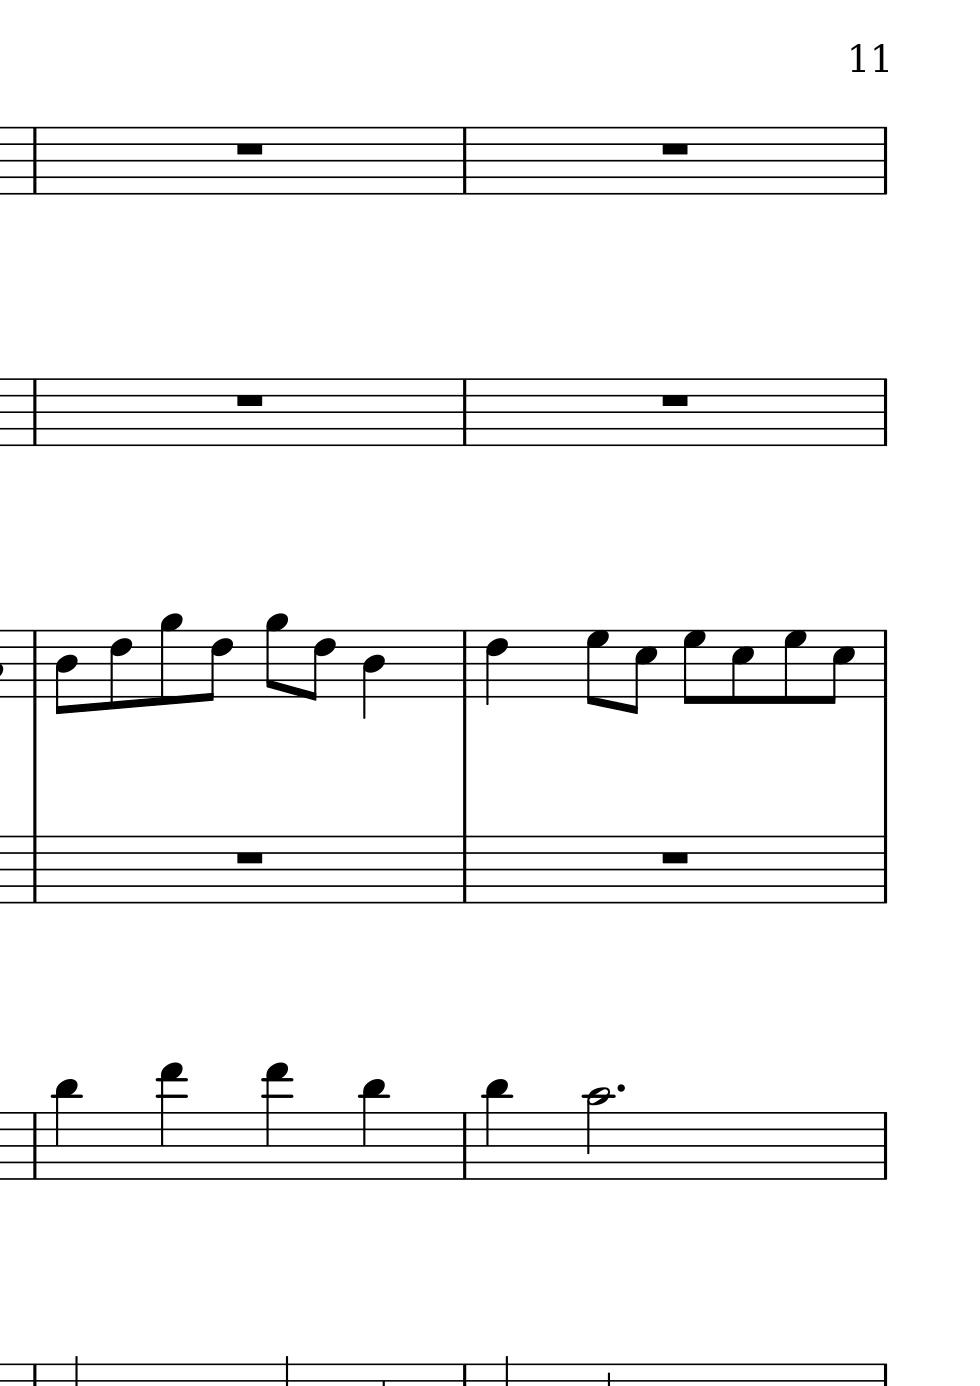1: (847, 41, 868, 76), (871, 41, 890, 76)
2_10: (582, 1086, 613, 1181)
4_11: (358, 1076, 388, 1182), (482, 1076, 511, 1181), (52, 1076, 78, 1182)
4_13: (263, 1062, 291, 1185), (158, 1062, 185, 1183)
4_4: (360, 627, 386, 721)
4_6: (482, 627, 510, 706)
8_4: (53, 627, 78, 716)
8_5: (626, 628, 658, 717), (823, 627, 856, 706), (729, 628, 755, 707)
8_6: (200, 627, 233, 703), (305, 627, 336, 702), (107, 627, 133, 710)
8_7: (681, 628, 708, 706), (781, 628, 808, 706), (584, 628, 610, 708)
8_9: (157, 612, 183, 706), (263, 612, 288, 700)
Rests1: (231, 138, 267, 159), (657, 138, 692, 159), (657, 389, 692, 410), (657, 847, 692, 867), (232, 390, 266, 410), (232, 847, 266, 867)
Single_barline: (455, 1113, 475, 1179), (875, 127, 894, 194), (455, 836, 473, 903), (456, 631, 474, 698), (25, 378, 42, 446), (876, 378, 893, 446), (456, 127, 473, 195), (876, 836, 893, 903), (25, 127, 42, 194), (876, 1112, 893, 1179), (27, 1113, 43, 1179), (456, 379, 472, 446), (27, 630, 42, 698), (27, 836, 42, 903), (877, 630, 893, 697)
dot: (614, 1081, 627, 1095)
